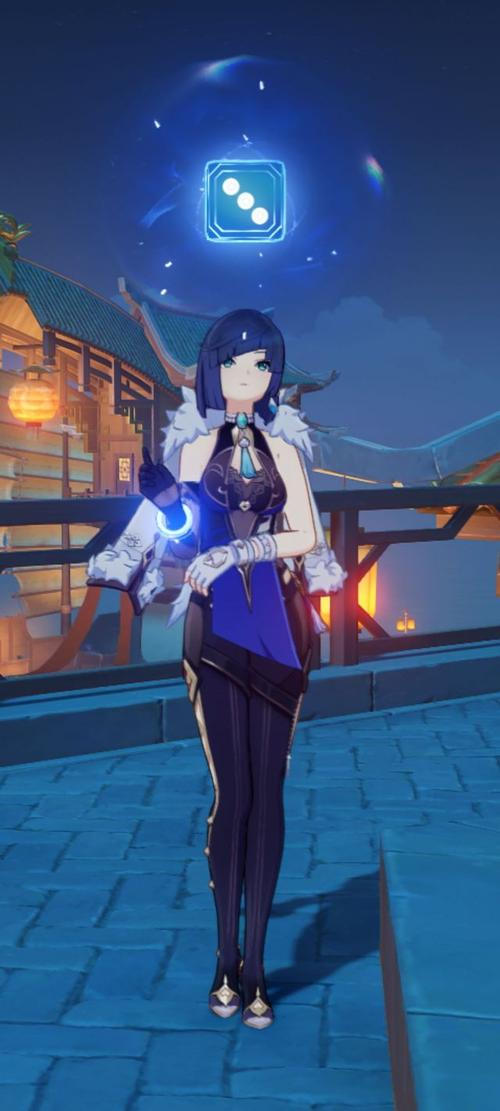夜兰: (125, 300, 374, 1026)
